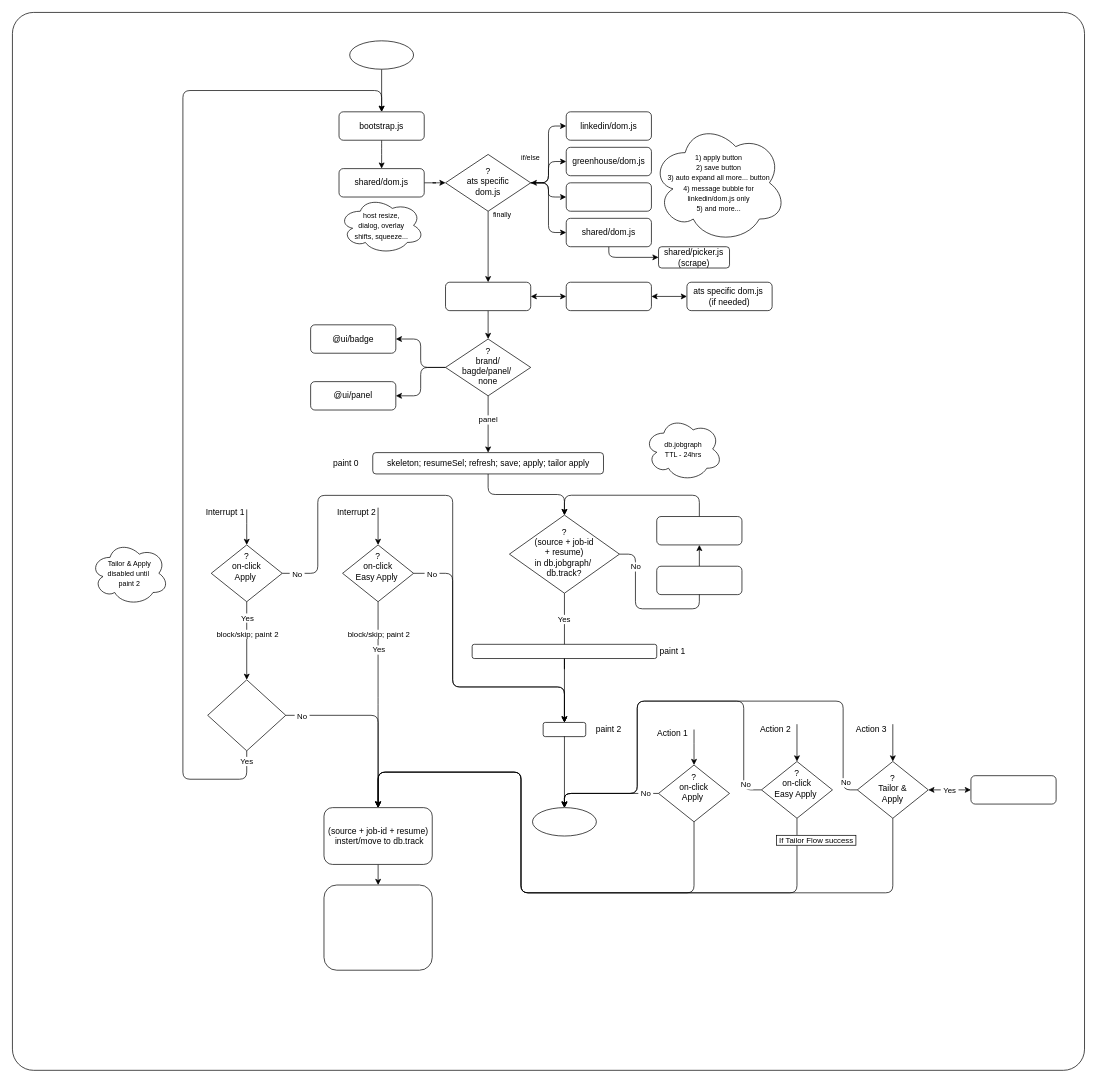
Image size: 1097x1083. Some labels were removed from this diagram. The shapes that lost their labels are listed below. From the top down, each one's box as (x1, y1, x2, y2) in pixels, then its label:
(349, 40, 414, 69): Start
(566, 182, 651, 211): workday/dom.js
(445, 282, 531, 311): shared/panel.js (brain)
(566, 282, 651, 311): shared/scrape.js
(656, 516, 742, 545): insert db.jobgraph
(656, 566, 742, 595): jd.analyze + internet search
(471, 644, 657, 659): existing + role; company; sponsor; people; info;
(207, 679, 286, 751): ? change of host
(542, 722, 586, 737): analysis
(970, 775, 1056, 804): Tailor Flow
(532, 807, 596, 836): End
(323, 884, 432, 970): Apply flow
